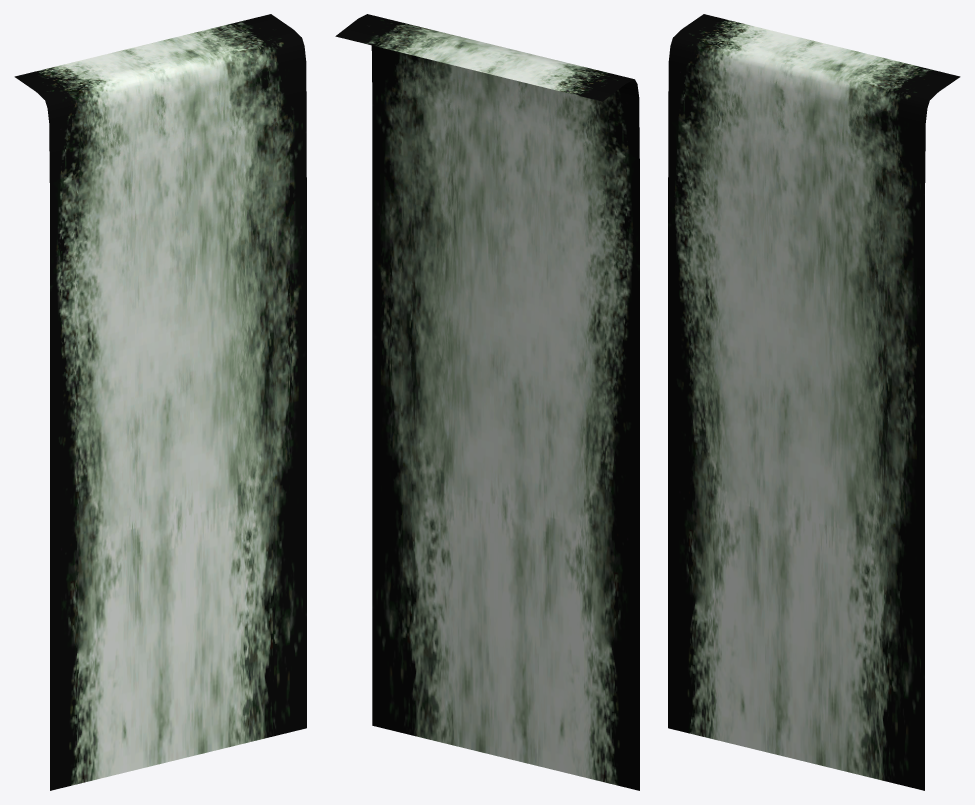
Rendered from changjing_shui_01_vfx.FBX.
3 renders of one model, left to right at view 1: azimuth 30°, elevation 25°; view 2: azimuth 150°, elevation 25°; view 3: azimuth 330°, elevation 25°, orthographic. The views are drawn at different scales.
Parts seen in each view (by area): view 1: Zjfb_shui_005; view 2: Zjfb_shui_005; view 3: Zjfb_shui_005.
Part boxes in pixels (x1,y1,x2,y2): Zjfb_shui_005: (14,14,306,790); Zjfb_shui_005: (335,14,639,790); Zjfb_shui_005: (668,14,960,790).
Bounding box in the file's own units: 1034 × 2649 × 249.
